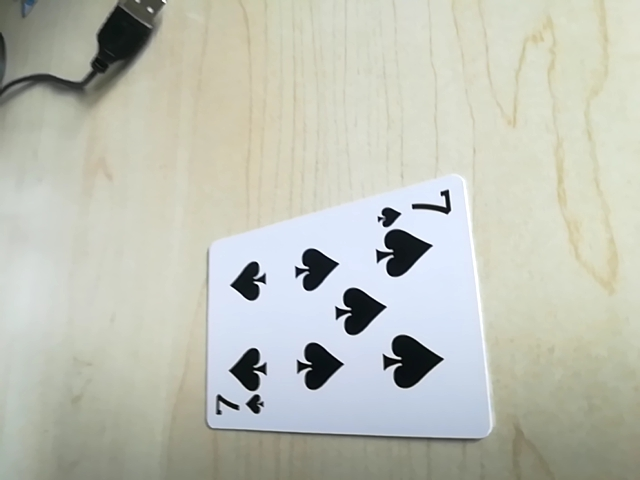ht 7: (372, 189, 458, 226), (208, 388, 268, 424)
